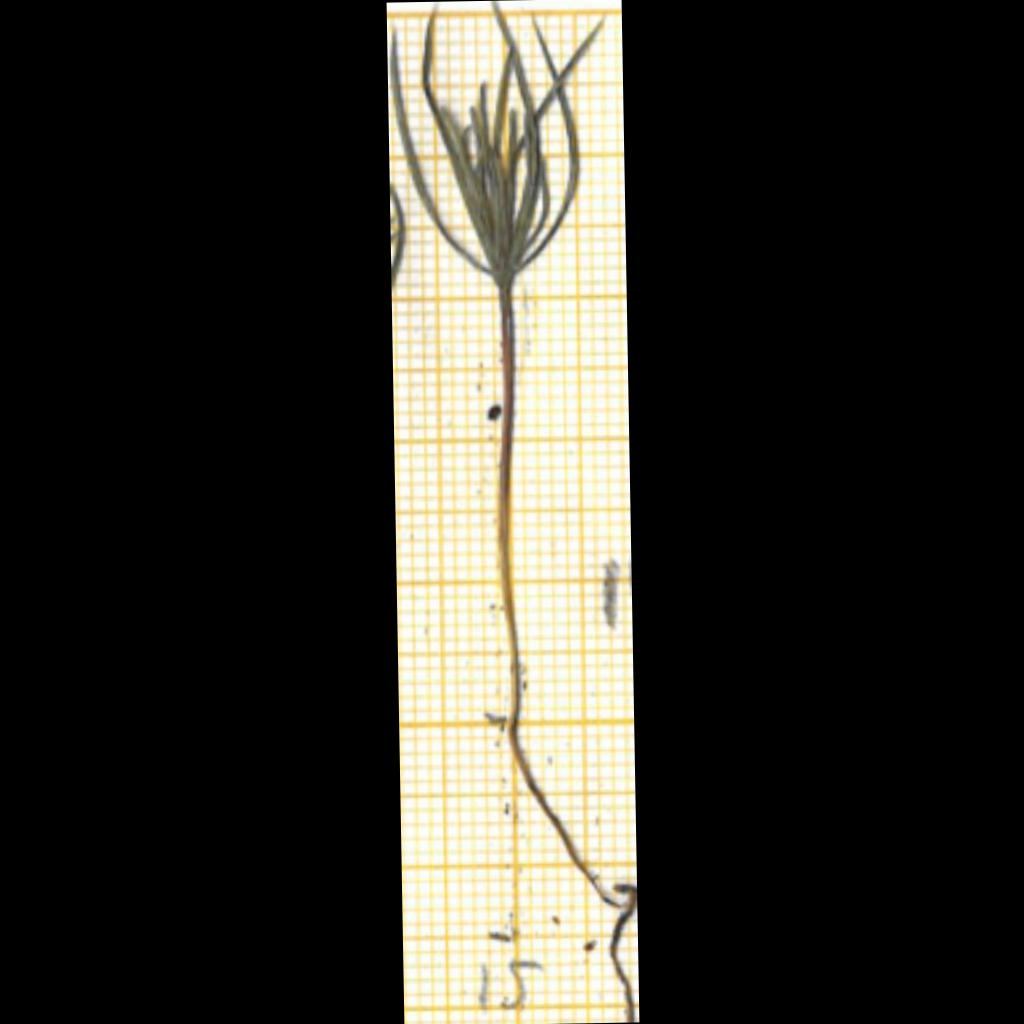flowerPinus: (390, 1, 596, 292)
rootPinus: (509, 731, 636, 1021)
stemPinus: (499, 298, 521, 723)
